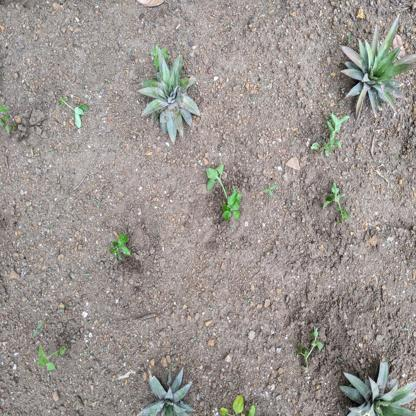pineapple: (334, 17, 414, 120), (138, 44, 204, 146), (338, 354, 416, 416), (132, 366, 198, 416)
weed: (203, 162, 242, 221), (316, 115, 352, 158), (323, 180, 357, 221), (300, 323, 327, 371), (54, 93, 90, 129), (35, 341, 73, 371), (107, 227, 137, 260)
